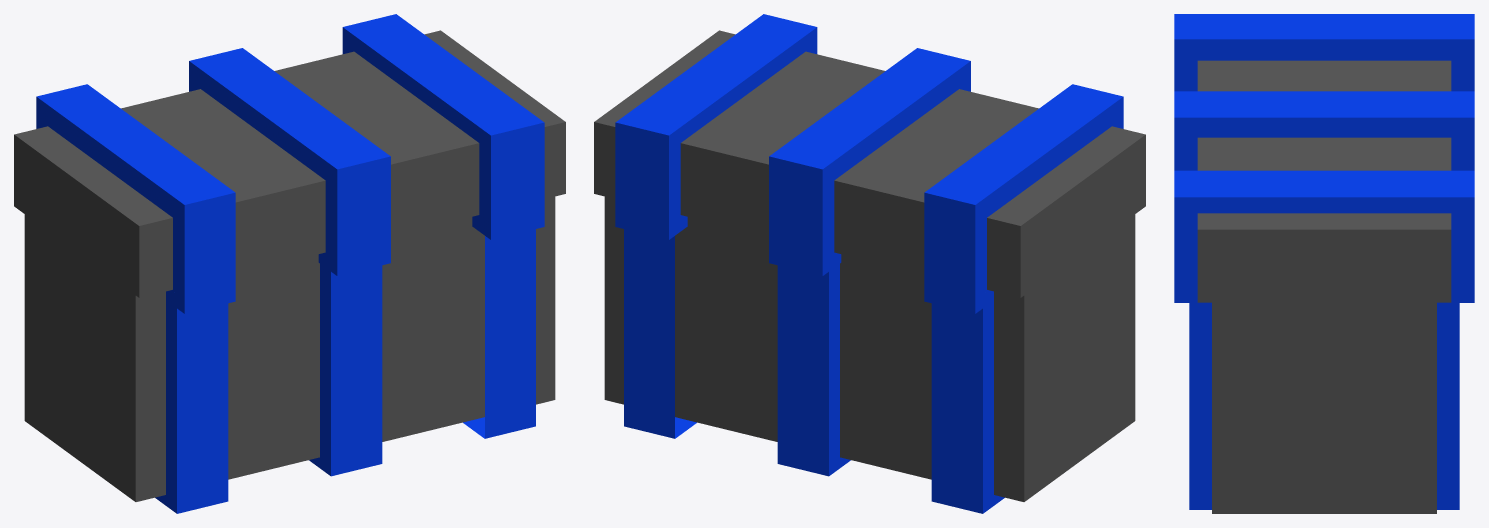
File: Crate.fbx
3 views of the same model, side by side, from view 1: azimuth 30°, elevation 25°; view 2: azimuth 150°, elevation 25°; view 3: azimuth 270°, elevation 25° (orthographic).
Parts seen in each view (by area): view 1: Crate base, TopCrate, TopRings, Rings; view 2: Crate base, TopCrate, TopRings, Rings; view 3: TopRings, Crate base, TopCrate, Rings.
Part boxes in pixels (x1=…): Crate base: x1=24, y1=196, x2=555, y2=501; TopCrate: x1=14, y1=30, x2=565, y2=297; TopRings: x1=36, y1=14, x2=544, y2=313; Rings: x1=155, y1=229, x2=535, y2=513; Crate base: x1=604, y1=196, x2=1135, y2=501; TopCrate: x1=594, y1=30, x2=1145, y2=297; TopRings: x1=615, y1=14, x2=1123, y2=313; Rings: x1=624, y1=229, x2=1004, y2=513; TopRings: x1=1174, y1=14, x2=1474, y2=302; Crate base: x1=1212, y1=302, x2=1436, y2=513; TopCrate: x1=1197, y1=60, x2=1451, y2=302; Rings: x1=1189, y1=303, x2=1459, y2=509.
Size of the model in its own units: 203 by 143 by 122.
